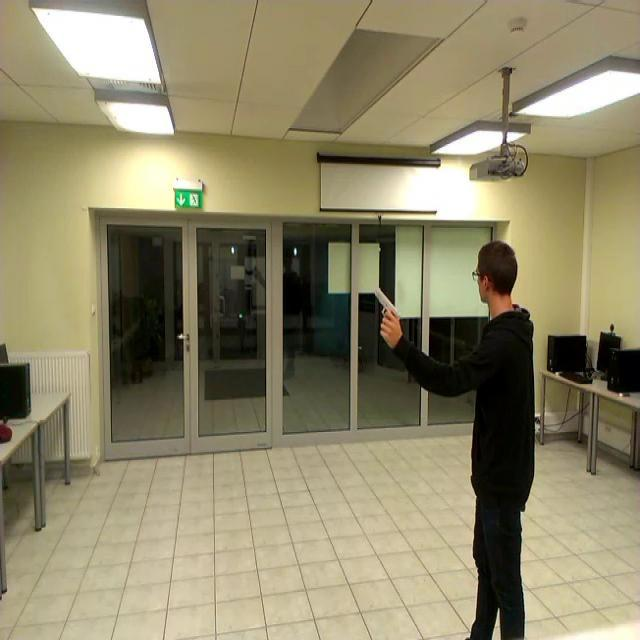weapon: (371, 288, 402, 339)
